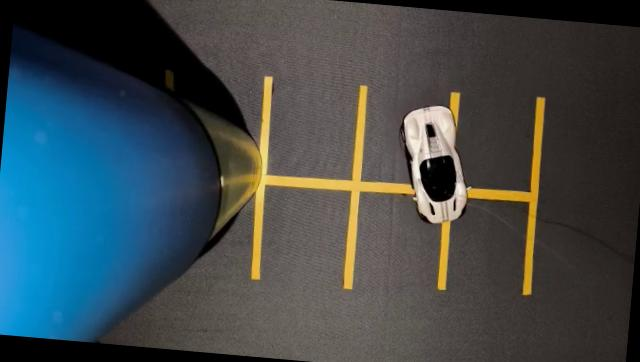toy_car: (372, 80, 498, 240)
